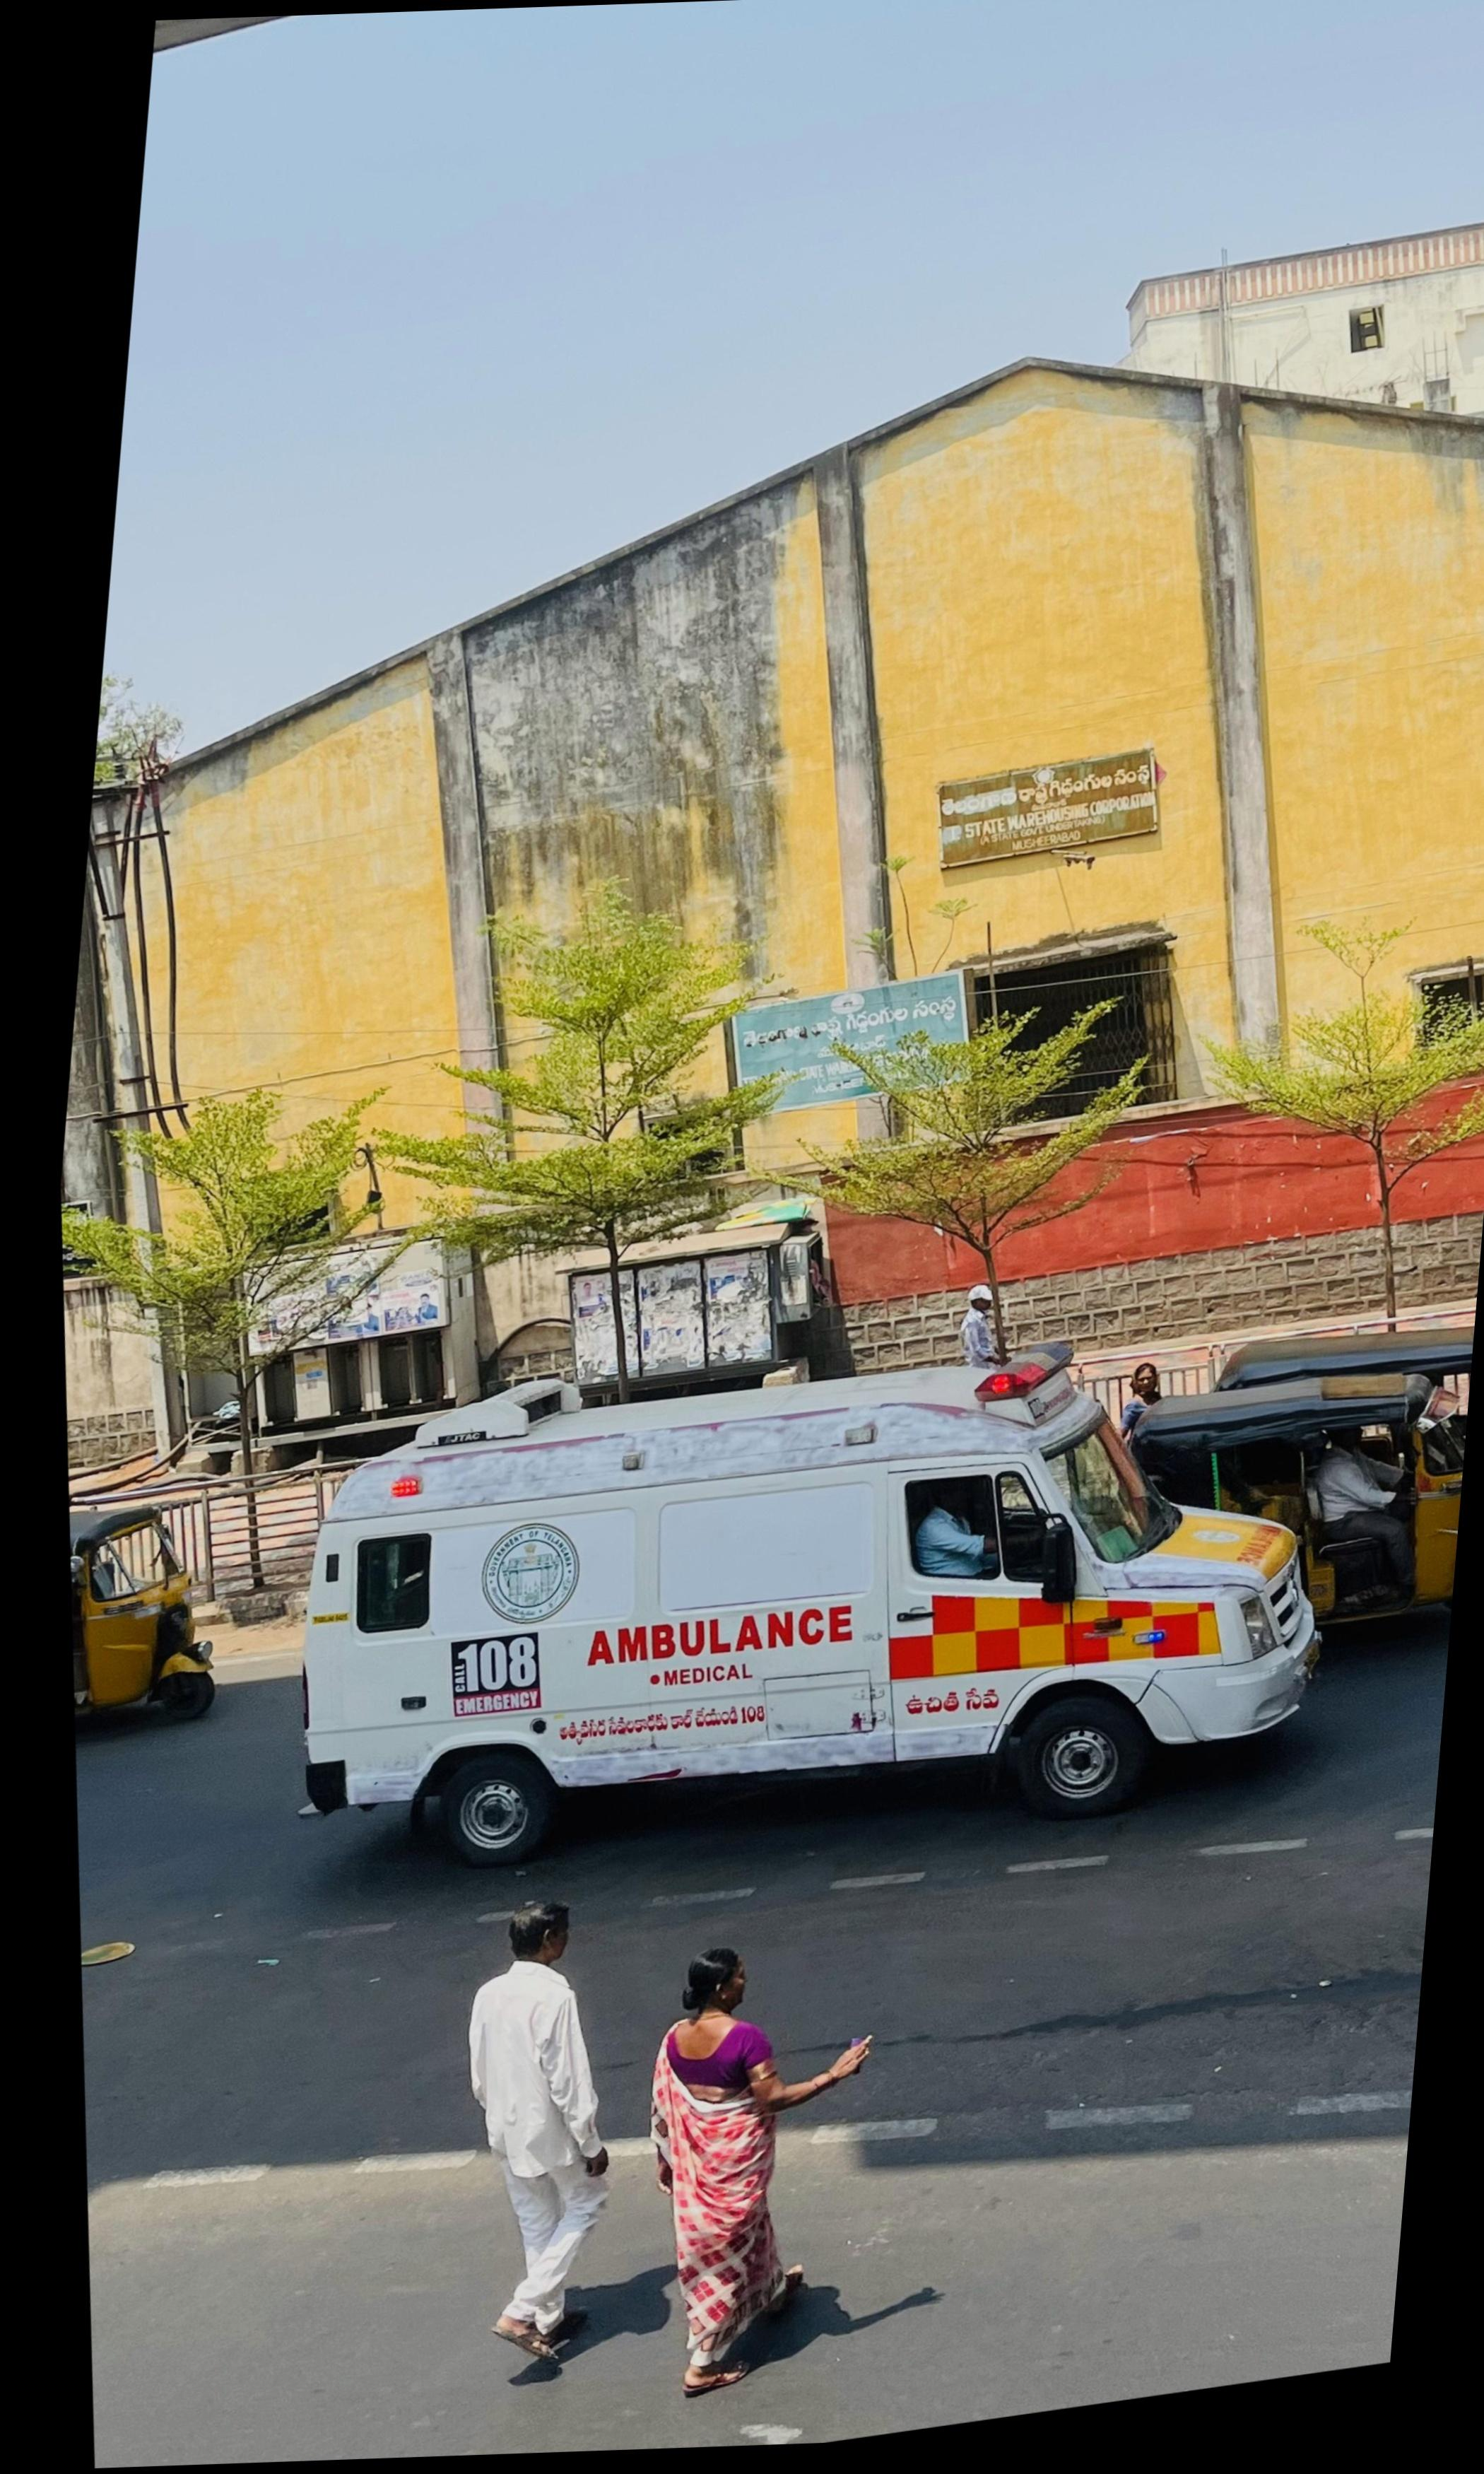ambulance: (304, 1408, 1254, 1866)
